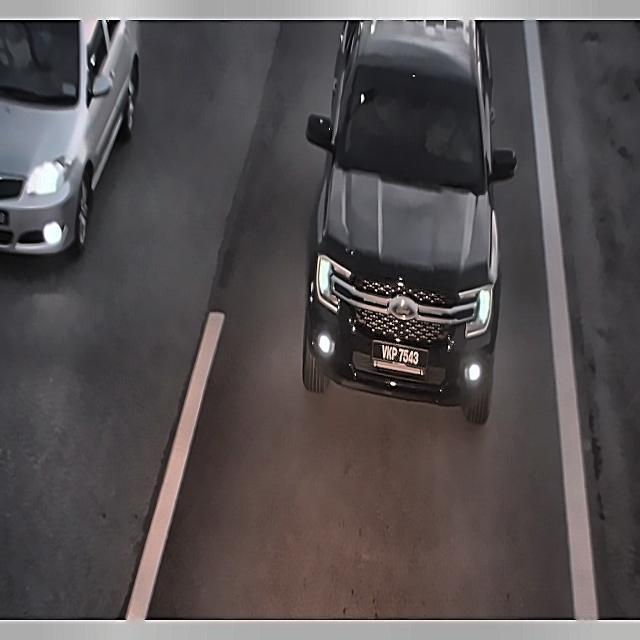car: (370, 332, 428, 368)
